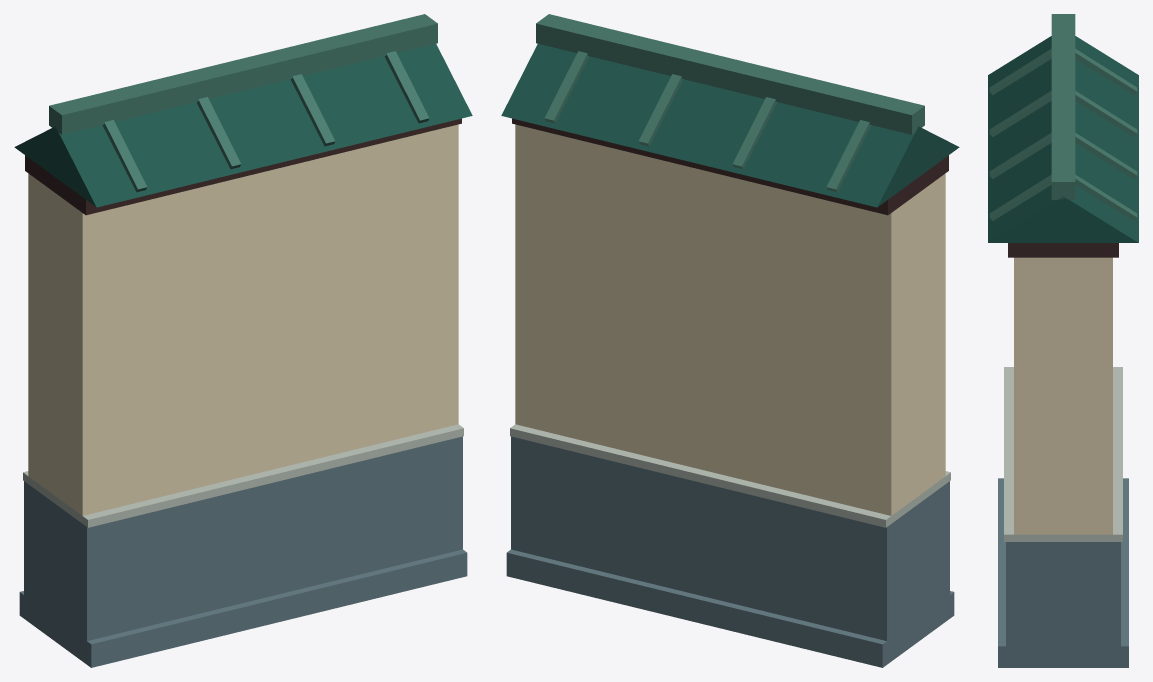
The model's file is wall_section_2m.glb.
The picture shows the model from 3 angles, left to right: view 1: azimuth 30°, elevation 25°; view 2: azimuth 150°, elevation 25°; view 3: azimuth 270°, elevation 25°; orthographic projection. The views are drawn at different scales.
Parts seen in each view (by area): view 1: WallSection2M / Plaster, WallSection2M / Stone, WallSection2M / Jade, WallSection2M / TileLight, WallSection2M / Coping, WallSection2M / Timber; view 2: WallSection2M / Plaster, WallSection2M / Stone, WallSection2M / Jade, WallSection2M / TileLight, WallSection2M / Coping, WallSection2M / Timber; view 3: WallSection2M / Plaster, WallSection2M / Jade, WallSection2M / Stone, WallSection2M / TileLight, WallSection2M / Coping, WallSection2M / Timber.
Part boxes in pixels (x1,y1,x2,y2): WallSection2M / Plaster: (28, 124, 458, 515); WallSection2M / Stone: (19, 436, 467, 667); WallSection2M / Jade: (14, 43, 472, 207); WallSection2M / TileLight: (49, 14, 437, 192); WallSection2M / Coping: (23, 424, 463, 527); WallSection2M / Timber: (25, 118, 461, 215); WallSection2M / Plaster: (515, 124, 945, 515); WallSection2M / Stone: (506, 436, 954, 667); WallSection2M / Jade: (501, 43, 959, 207); WallSection2M / TileLight: (536, 14, 924, 192); WallSection2M / Coping: (510, 424, 950, 527); WallSection2M / Timber: (512, 118, 948, 215); WallSection2M / Plaster: (1014, 257, 1112, 534); WallSection2M / Jade: (988, 36, 1138, 242); WallSection2M / Stone: (998, 478, 1128, 667); WallSection2M / TileLight: (989, 14, 1137, 221); WallSection2M / Coping: (1004, 367, 1122, 541); WallSection2M / Timber: (1008, 243, 1118, 257).
Bounding box in the file's own units: 2 × 2.7 × 0.76.
